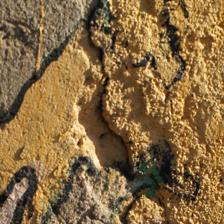Crack: (69, 25, 139, 183)
